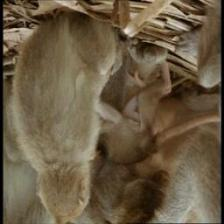monkey: (89, 146, 111, 180)
